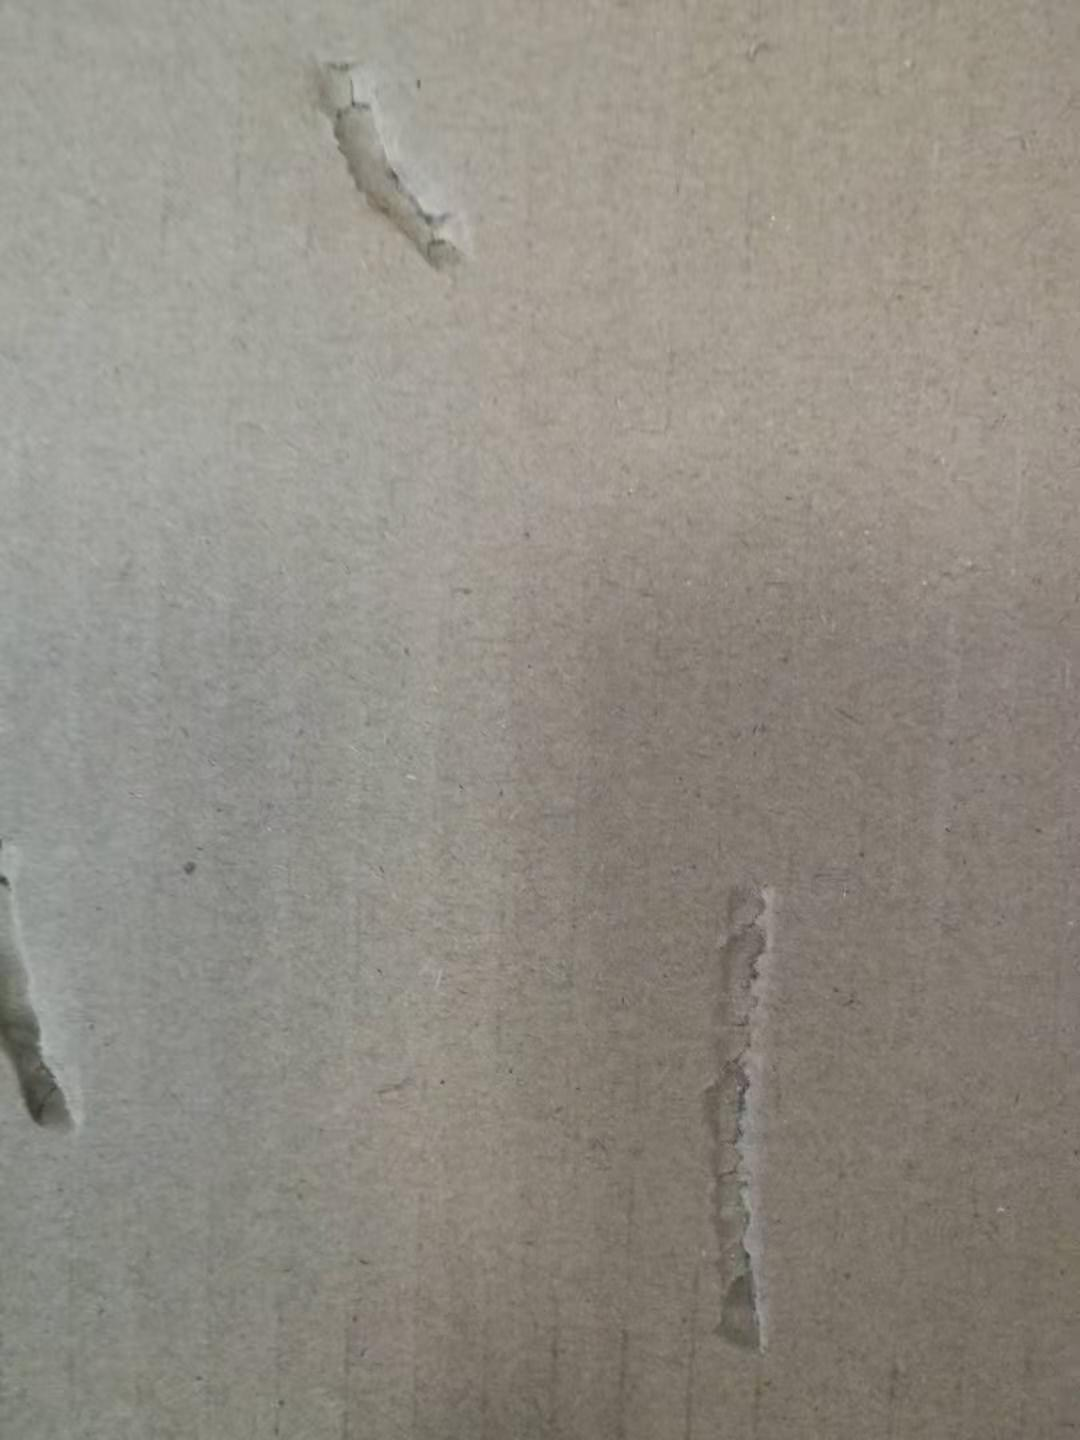defect: (643, 861, 843, 1379), (282, 35, 503, 295), (1, 835, 109, 1164)
